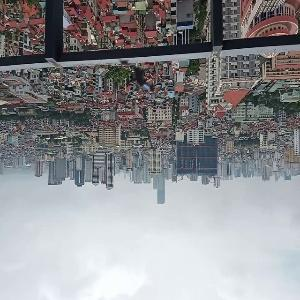drone: (94, 36, 184, 126)
